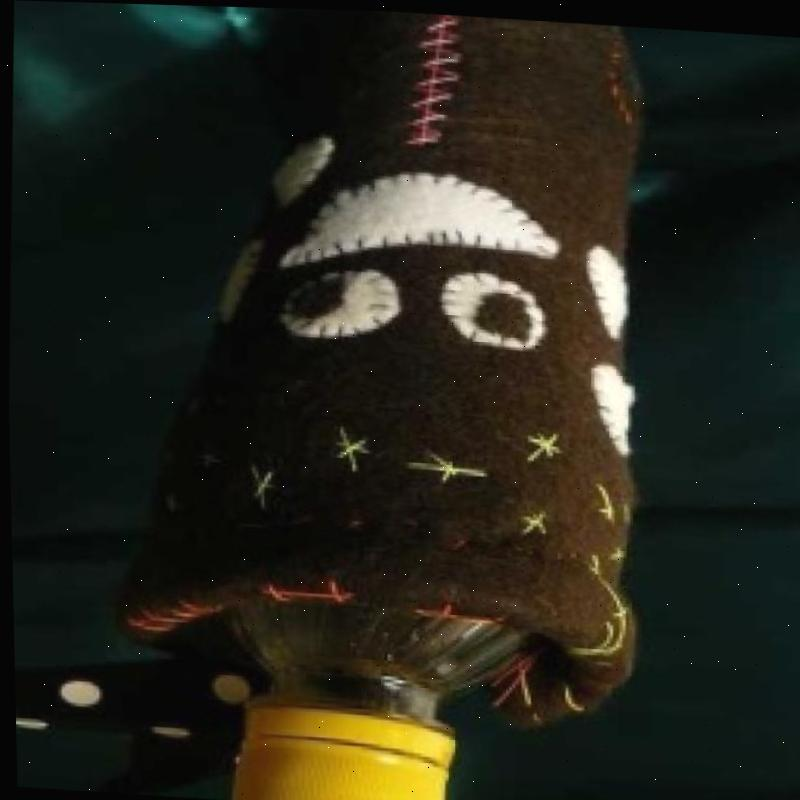botella: (208, 600, 525, 800)
